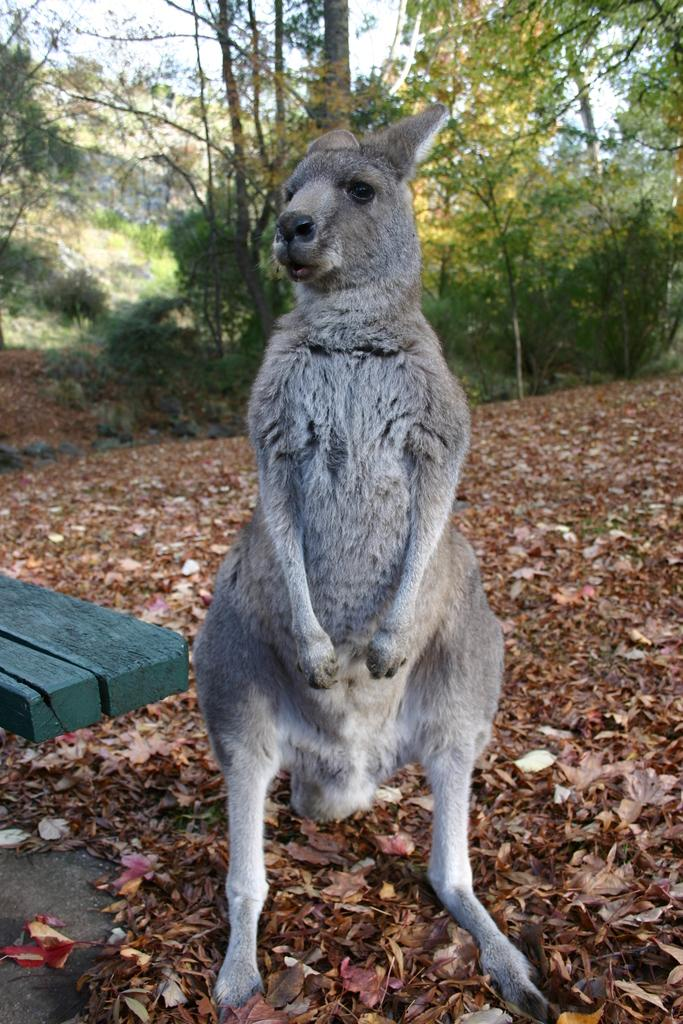kangaroo: (194, 107, 564, 1014)
